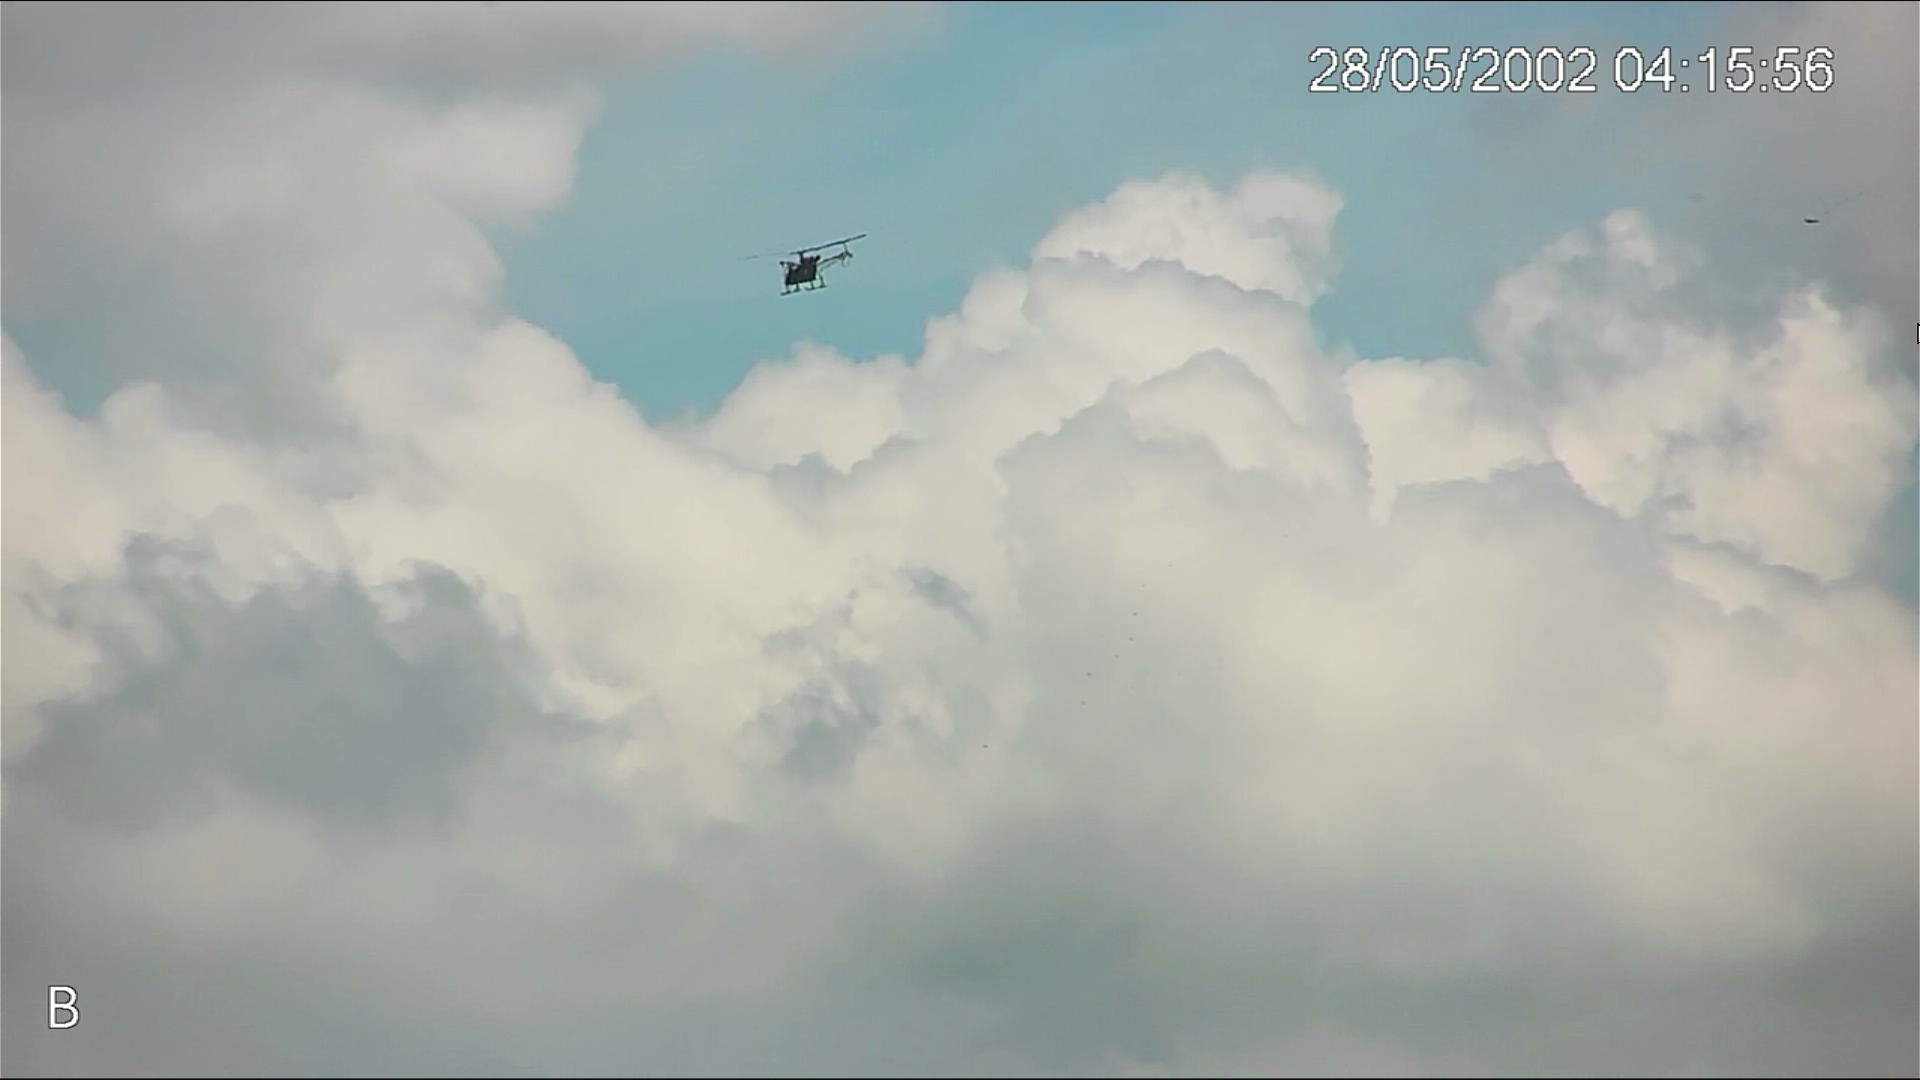SU_30: (771, 237, 860, 297)
